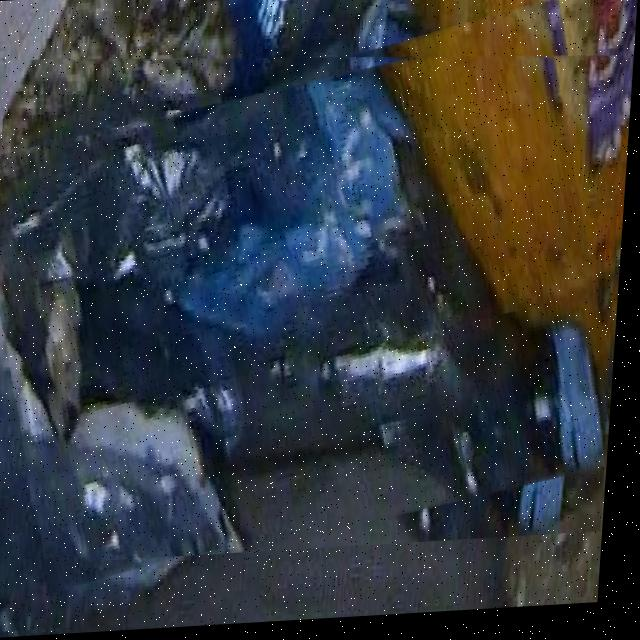plasticbottle: (0, 29, 636, 567)
